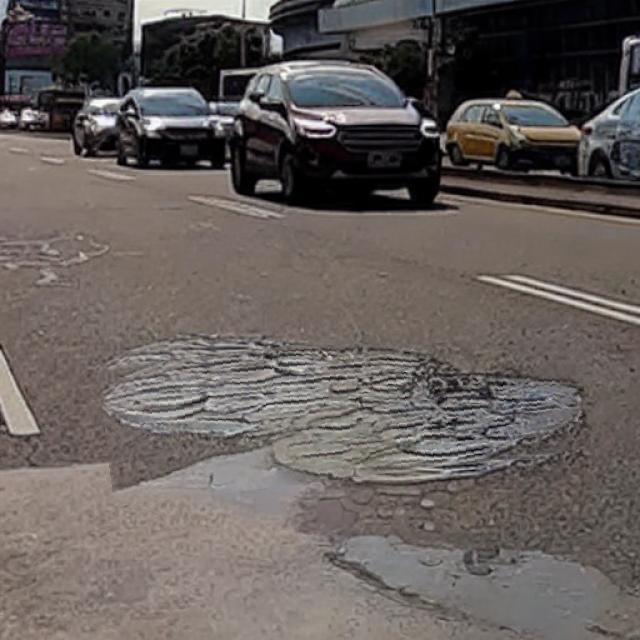puddle: (102, 326, 589, 493)
